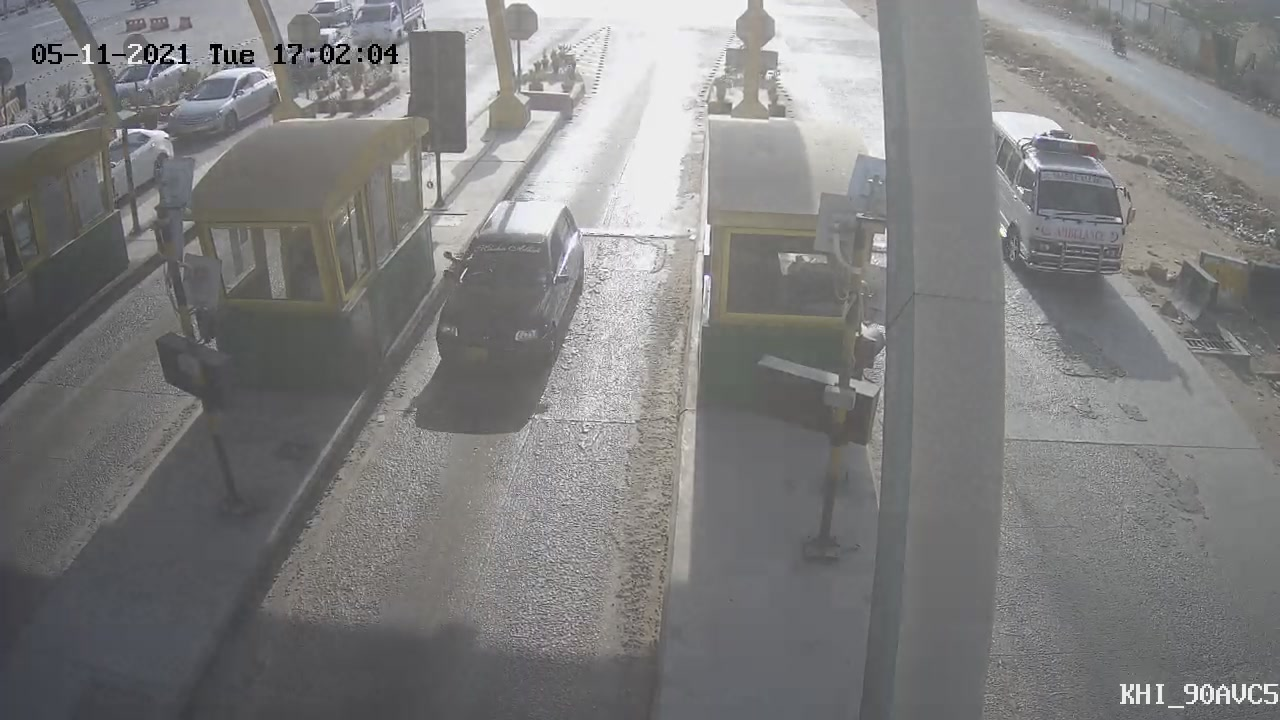F1: (404, 179, 611, 396)
